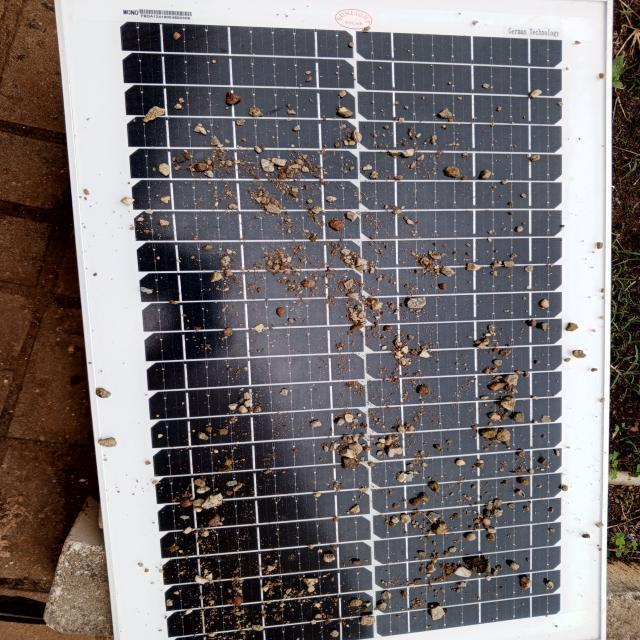Surface Contaminant: (121, 15, 600, 639)
